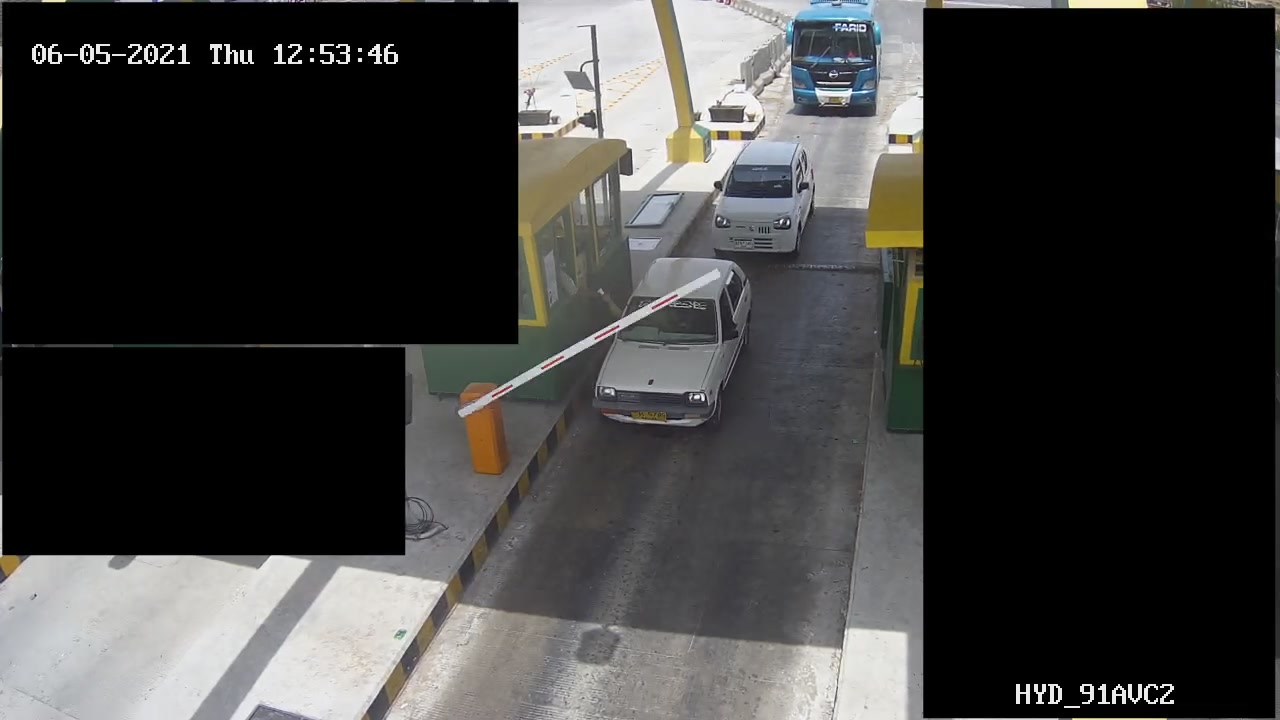F1: (592, 246, 753, 432), (689, 140, 818, 258)
